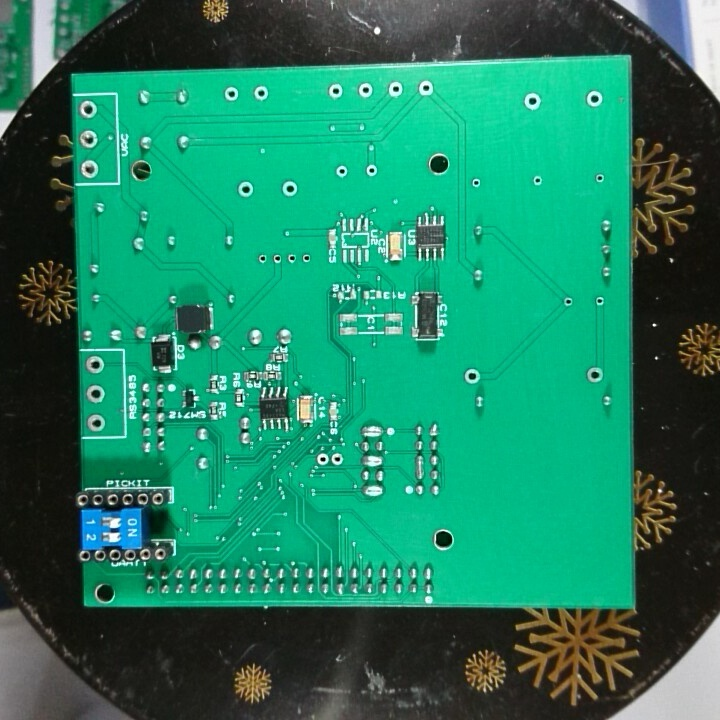F: (77, 127, 102, 153), (521, 89, 546, 112), (85, 382, 107, 407), (85, 411, 108, 434), (462, 364, 484, 387), (77, 98, 99, 121), (278, 178, 302, 199), (79, 158, 102, 179), (583, 87, 605, 108), (84, 354, 105, 376), (356, 80, 377, 101), (236, 179, 257, 200), (416, 78, 436, 100), (325, 80, 345, 102), (222, 83, 241, 106), (585, 363, 606, 383), (251, 83, 271, 103), (312, 449, 330, 471), (559, 292, 578, 312), (529, 171, 548, 190), (361, 162, 381, 180), (329, 448, 345, 470), (254, 249, 271, 269), (268, 249, 284, 269), (385, 79, 399, 101), (283, 249, 300, 266), (467, 175, 485, 191), (334, 162, 350, 180), (591, 169, 607, 186), (592, 293, 607, 311), (298, 250, 314, 266)
P: (359, 423, 385, 442), (360, 483, 388, 500), (413, 453, 427, 481), (360, 455, 387, 469)
